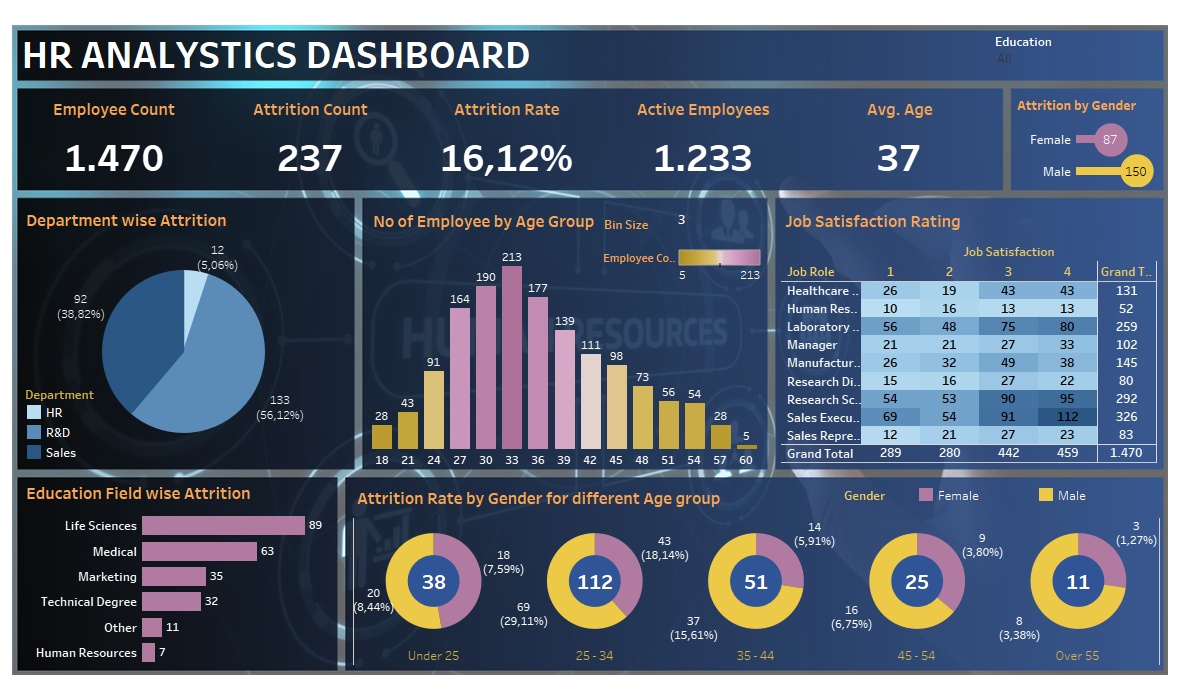

This screenshot's page, from the dashboard's own definition file:
{"tool":"tableau","page":{"name":"HR ANALYSTICS DASHBOARD","canvas":[1180,700],"ordinal":0},"visuals":[{"type":"image","param":"Image/HR background Final.png","box":[8,8,1164,684]},{"type":"text","box":[19,18,695,69]},{"type":"filter","title":"Department wise Attrition","param":"[federated.0d8n9hp12fyg0k1ep4hgo1jsbnom].[none:Education:nk]","box":[995,32,160,44]},{"type":"worksheet","title":"Attrition by Gender","mark":"Bar","rows":["Gender"],"cols":["Calculation_1351079902899568640","Calculation_1351079902899568640"],"box":[996,90,161,97]},{"type":"worksheet","title":"KPI","mark":"Automatic","box":[16,99,982,95]},{"type":"worksheet","title":"Department wise Attrition","mark":"Pie","box":[22,203,323,260]},{"type":"worksheet","title":"No of Employee by Age Group","mark":"Automatic","rows":["Employee Count"],"cols":["Age (bin)"],"box":[369,204,392,265]},{"type":"worksheet","title":"Job Satisfaction Rating","mark":"Square","rows":["Job Role"],"cols":["Job Satisfaction"],"box":[781,204,376,259]},{"type":"parameter","param":"[Parameters].[Parameter 3]","box":[604,211,160,27]},{"type":"legend","title":"No of Employee by Age Group","param":"[federated.0d8n9hp12fyg0k1ep4hgo1jsbnom].[sum:Employee Count:qk]","box":[603,246,162,34]},{"type":"legend","title":"Department wise Attrition","param":"[federated.0d8n9hp12fyg0k1ep4hgo1jsbnom].[none:Department:nk]","box":[24,384,84,78]},{"type":"worksheet","title":"Education Field wise Attrition","mark":"Automatic","rows":["Education Field"],"cols":["Calculation_1351079902899568640"],"box":[22,476,314,189]},{"type":"worksheet","title":"Attrition Rate by Gender for different Age group","mark":"Pie","rows":["Calculation_1351079903902711830","Calculation_1351079903902781464"],"cols":["CF_age band"],"box":[353,481,807,185]},{"type":"legend","title":"Attrition Rate by Gender for different Age group","param":"[federated.0d8n9hp12fyg0k1ep4hgo1jsbnom].[none:Gender:nk]","box":[844,485,320,16]}]}

Visuals, with their boxes in screenshot pixels (x1, y1, x2, y2), scaled from the page's 1180x700 canvas onto the 1180x700 screenshot:
image: [8, 8, 1172, 692]
text: [19, 18, 714, 87]
"Department wise Attrition" filter: [995, 32, 1155, 76]
"Attrition by Gender" worksheet (Bar marks): [996, 90, 1157, 187]
"KPI" worksheet: [16, 99, 998, 194]
"Department wise Attrition" worksheet (Pie marks): [22, 203, 345, 463]
"No of Employee by Age Group" worksheet: [369, 204, 761, 469]
"Job Satisfaction Rating" worksheet (Square marks): [781, 204, 1157, 463]
parameter: [604, 211, 764, 238]
"No of Employee by Age Group" legend: [603, 246, 765, 280]
"Department wise Attrition" legend: [24, 384, 108, 462]
"Education Field wise Attrition" worksheet: [22, 476, 336, 665]
"Attrition Rate by Gender for different Age group" worksheet (Pie marks): [353, 481, 1160, 666]
"Attrition Rate by Gender for different Age group" legend: [844, 485, 1164, 501]
